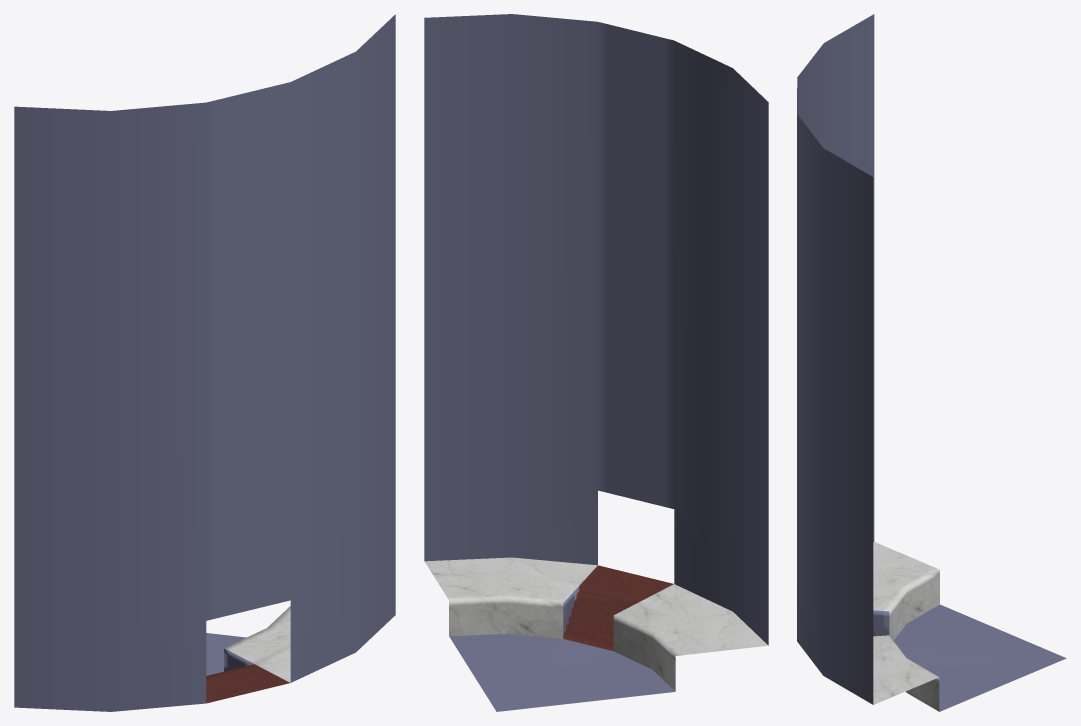
File: opening.fbx
3 renders of one model, left to right at view 1: azimuth 30°, elevation 25°; view 2: azimuth 150°, elevation 25°; view 3: azimuth 270°, elevation 25°, orthographic. The views are drawn at different scales.
Visible parts, largest first — view 1: opening_low; view 2: opening_low; view 3: opening_low.
Boxes of the visible parts, left/top/right/bottom form: opening_low: left=14, top=14, right=395, bottom=711; opening_low: left=424, top=14, right=768, bottom=711; opening_low: left=797, top=14, right=1066, bottom=711.
Bounding box in the file's own units: 21.06 × 33.83 × 14.71.
2 materials, 1 textured.
